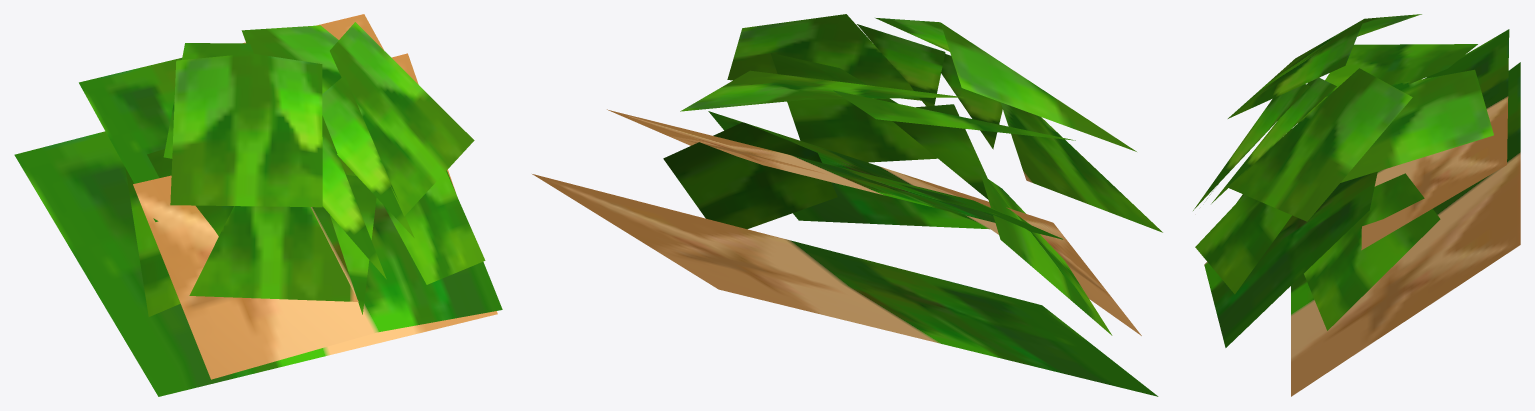
File: fg_bushE_2.dae
The picture shows the model from 3 angles, left to right: view 1: azimuth 30°, elevation 25°; view 2: azimuth 150°, elevation 25°; view 3: azimuth 270°, elevation 25°; orthographic projection. The views are drawn at different scales.
Parts seen in each view (by area): view 1: fg_bushE_2; view 2: fg_bushE_2; view 3: fg_bushE_2.
Part boxes in pixels (bbox=[...]): fg_bushE_2: bbox=[14, 14, 502, 396]; fg_bushE_2: bbox=[532, 14, 1162, 396]; fg_bushE_2: bbox=[1193, 14, 1520, 396].
Size of the model in its own units: 50.84 by 35.08 by 37.48.
Materials: 1 (1 with a texture image).
